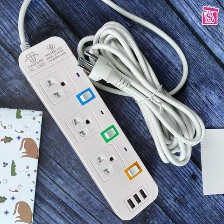three_eye_plug: (15, 31, 166, 224)
